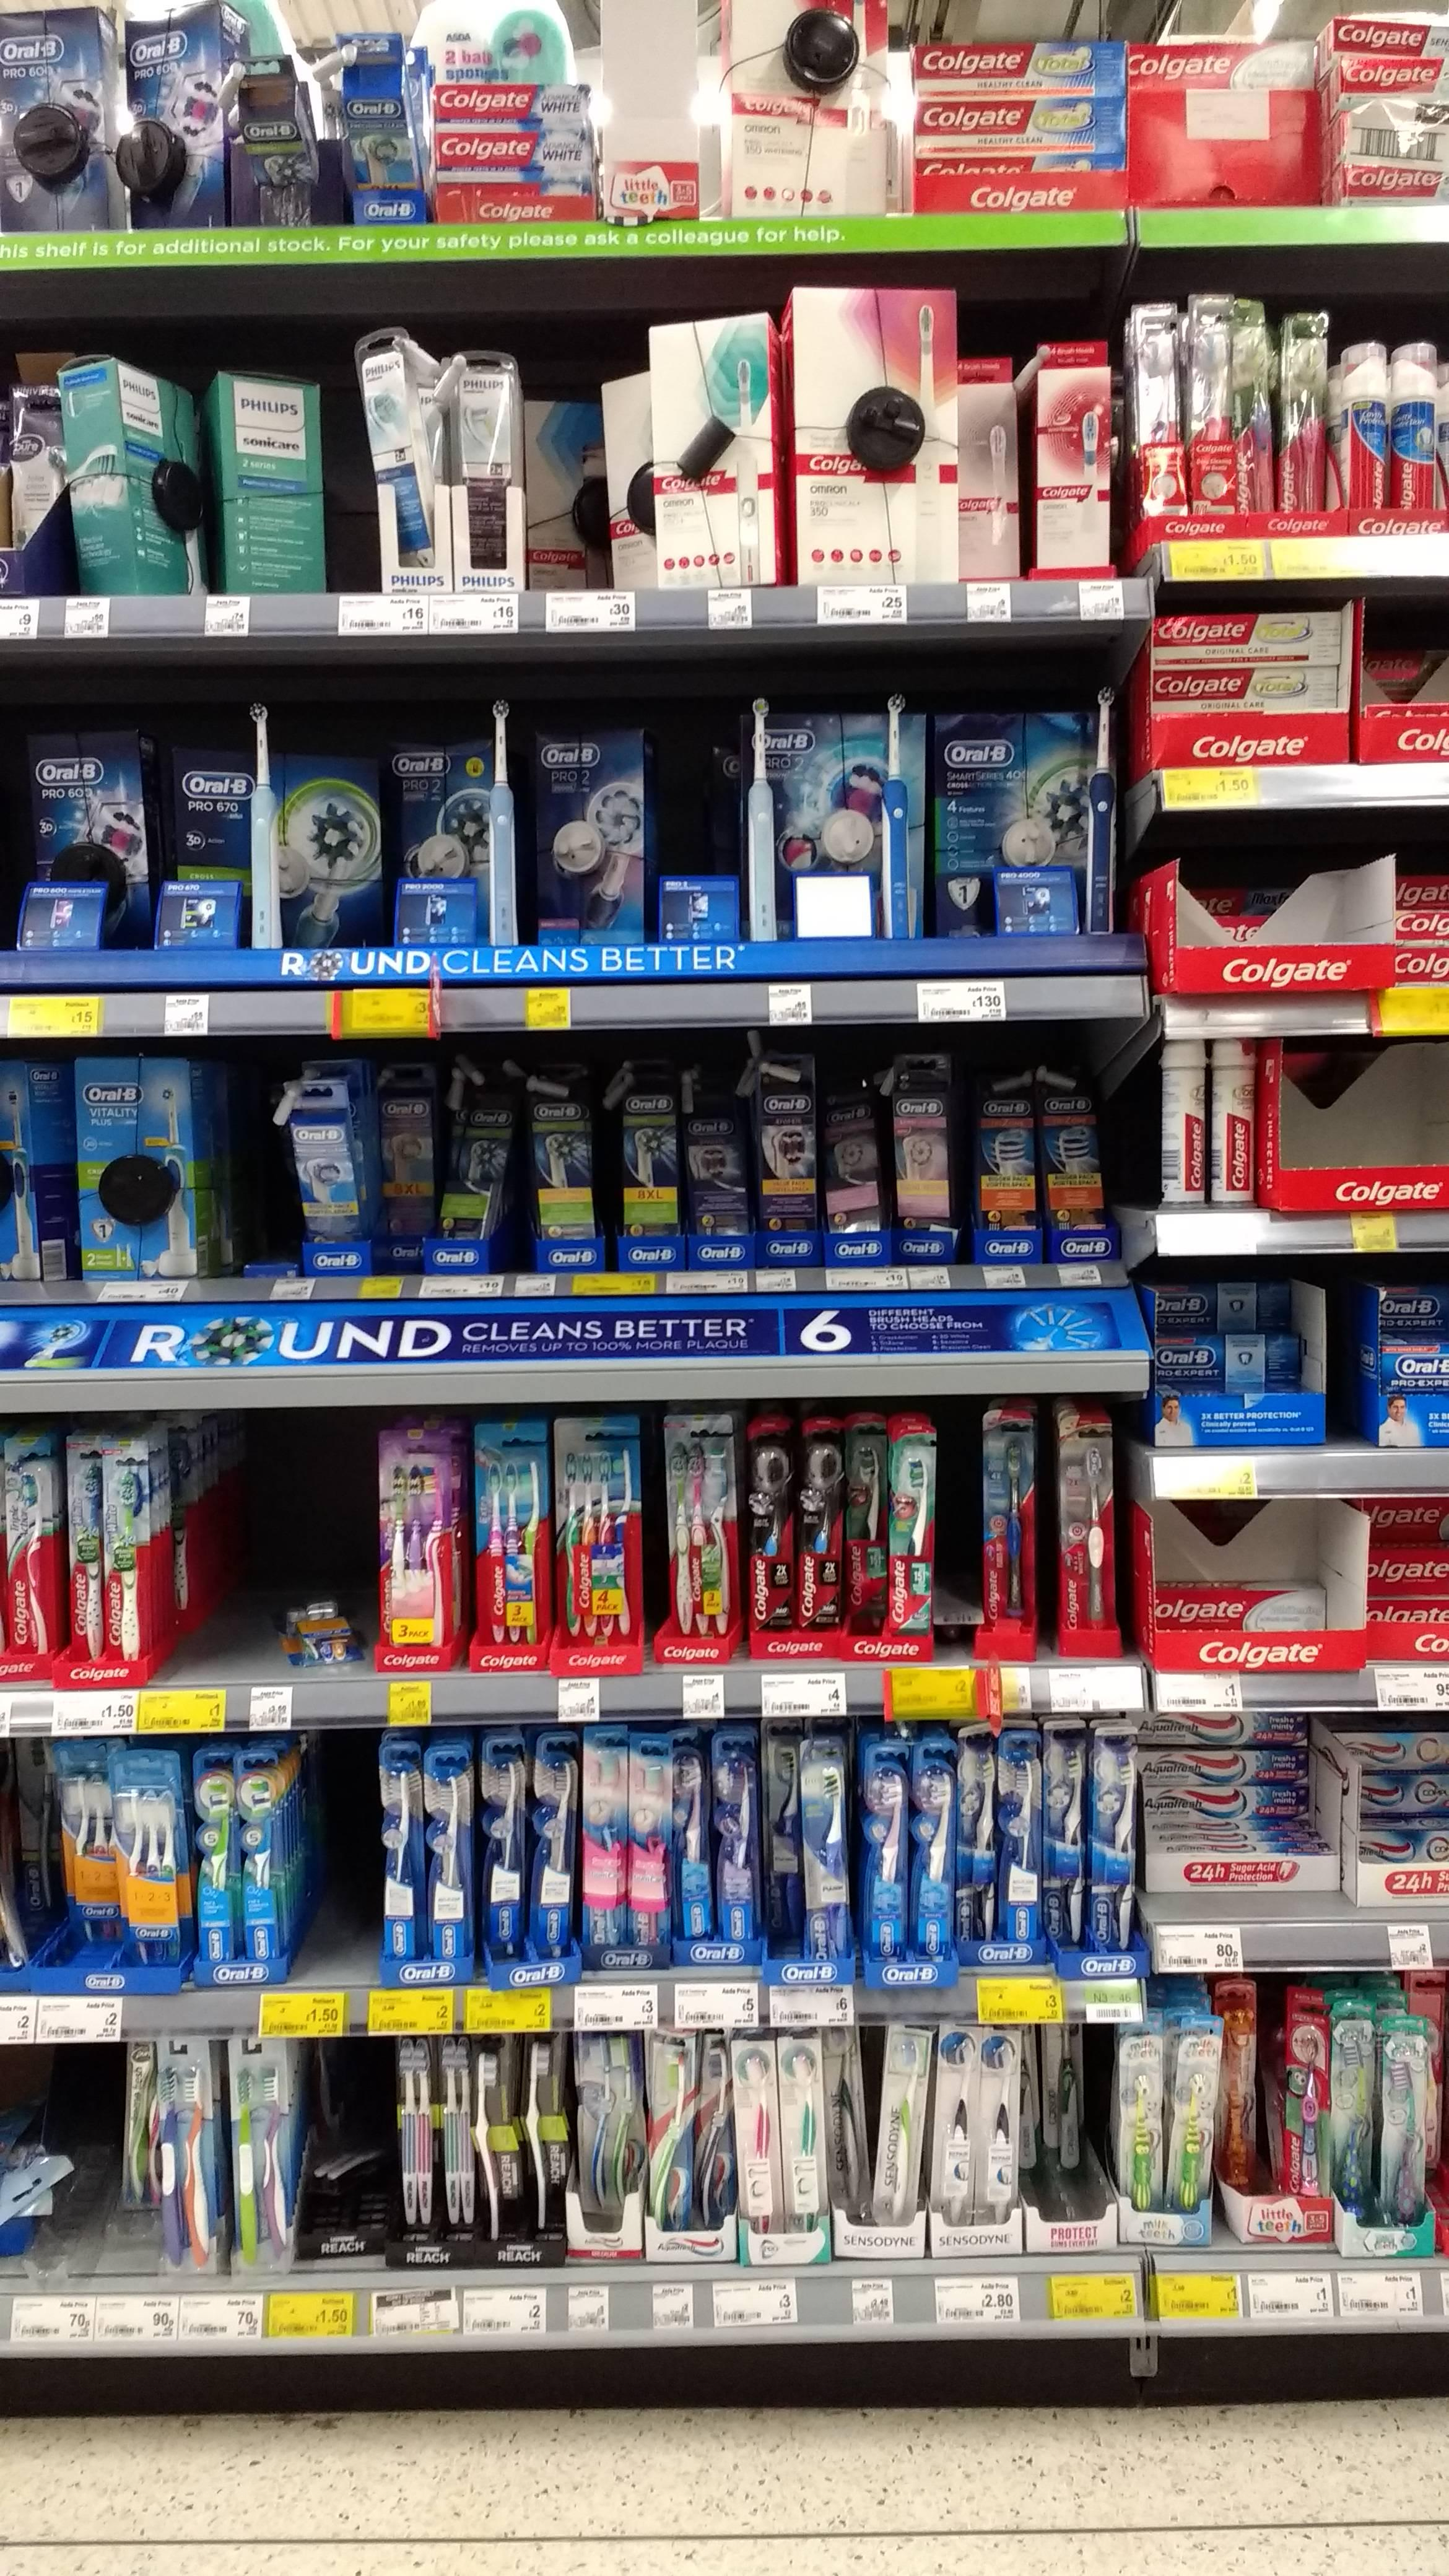empty: (207, 1419, 368, 1667), (1162, 817, 1399, 955), (285, 1732, 386, 1994), (71, 2036, 170, 2298), (1272, 1049, 1449, 1182), (303, 2020, 387, 2268), (648, 694, 743, 883)
